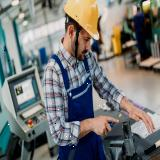Helmet: (62, 1, 100, 42)
